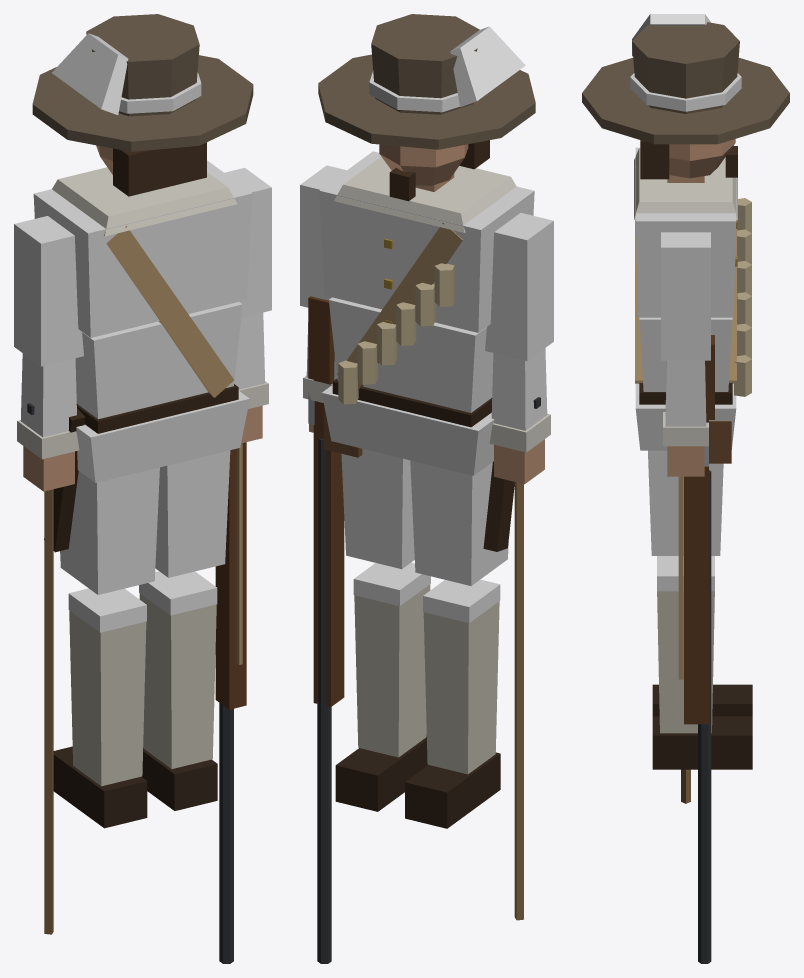
Rendered from soldier_em_musket_lod0.glb.
3 views of the same model, side by side, from view 1: azimuth 30°, elevation 25°; view 2: azimuth 150°, elevation 25°; view 3: azimuth 270°, elevation 25° (orthographic). The views are drawn at different scales.
Parts seen in each view (by area): view 1: em_musket_lod0_static; view 2: em_musket_lod0_static; view 3: em_musket_lod0_static.
Part boxes in pixels (x1,y1,x2,y2): em_musket_lod0_static: [14, 14, 271, 963]; em_musket_lod0_static: [300, 14, 553, 963]; em_musket_lod0_static: [582, 14, 789, 963].
Bounding box in the file's own units: 0.59 × 2.35 × 0.5.
